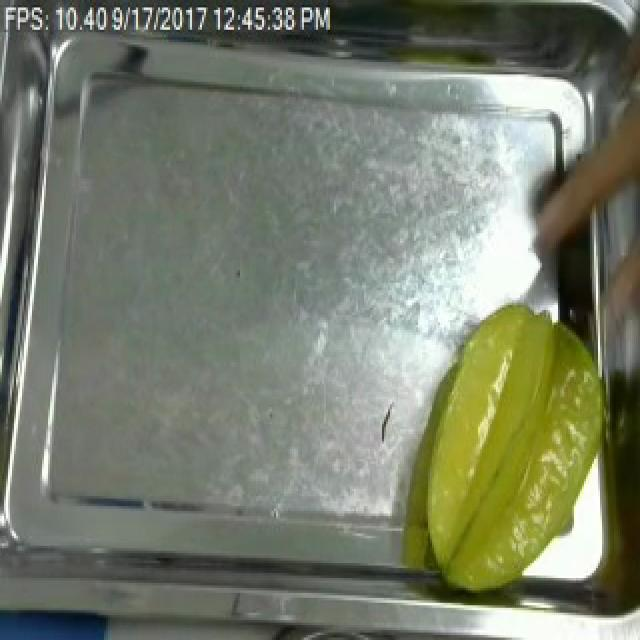fruit: (406, 290, 620, 608)
